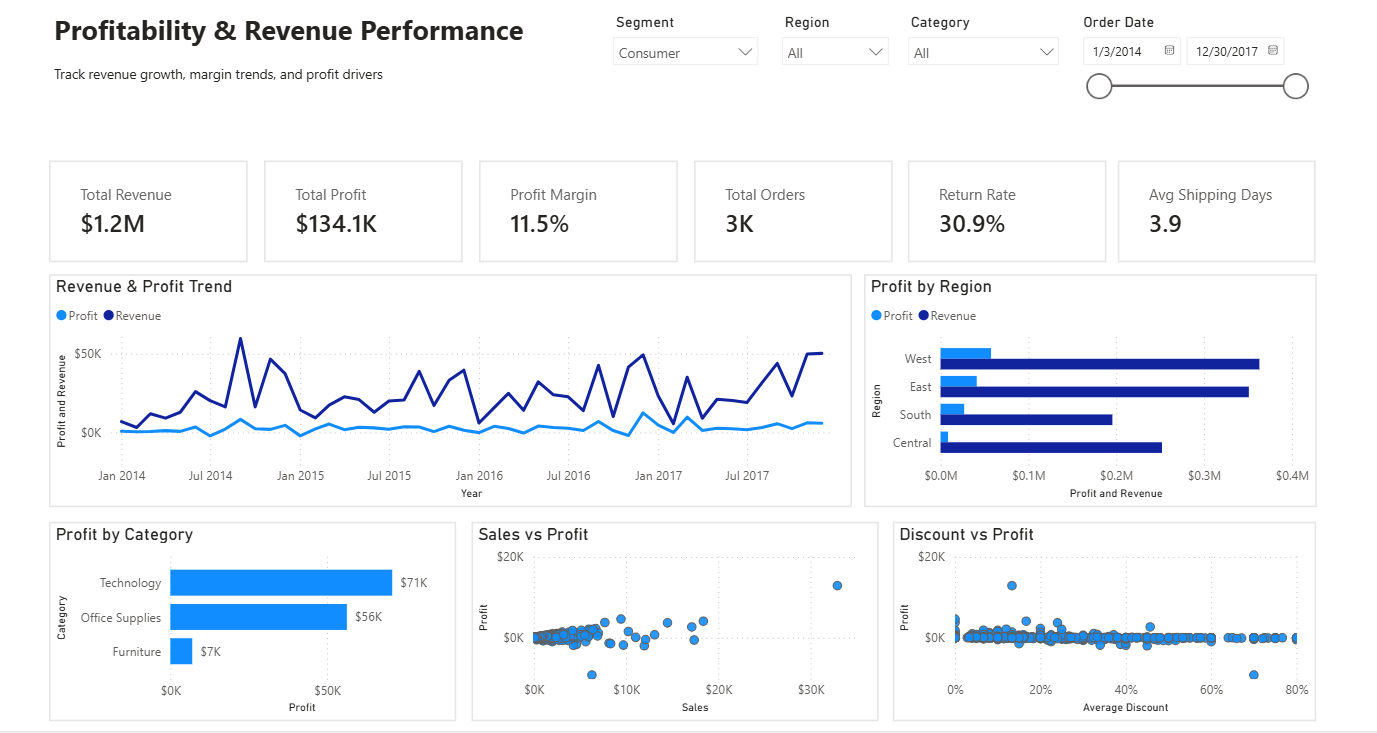

This screenshot's page, from the dashboard's own definition file:
{"tool":"powerbi","page":{"name":"Page 1","canvas":[1280,720],"ordinal":0},"visuals":[{"type":"cardVisual","fields":{"Data":["superstore_processed.Total Revenue"]},"box":[19.6,160.2,195,100.3],"z":0},{"type":"cardVisual","fields":{"Data":["superstore_processed.Total Profit"]},"box":[230.9,160.2,195,100.3],"z":1000},{"type":"cardVisual","fields":{"Data":["superstore_processed.Profit Margin"]},"box":[442.1,160.2,195,100.3],"z":2000},{"type":"cardVisual","fields":{"Data":["superstore_processed.Total Orders"]},"box":[652.9,160.2,195,100.3],"z":3000},{"type":"cardVisual","fields":{"Data":["superstore_processed.Return Rate"]},"box":[863.6,160.2,195,100.3],"z":4000},{"type":"lineChart","title":"Revenue & Profit Trend","fields":{"Category":["superstore_processed.Order Date.Variation.Date Hierarchy.Year","superstore_processed.Order Date.Variation.Date Hierarchy.Month"],"Y":["superstore_processed.Total Profit","superstore_processed.Total Revenue"]},"box":[20,271.2,788.8,228.8],"z":5000},{"type":"clusteredBarChart","title":"Profit by Category","fields":{"Category":["superstore_processed.Category"],"Y":["superstore_processed.Total Profit"]},"box":[20,515,400,196.2],"z":6000},{"type":"scatterChart","title":"Sales vs Profit","fields":{"X":["Sum(superstore_processed.Sales)"],"Y":["Sum(superstore_processed.Profit)"],"Category":["superstore_processed.Product Name"]},"box":[434.4,515,400,196],"z":7000},{"type":"scatterChart","title":"Discount vs Profit","fields":{"X":["Avg(superstore_processed.Discount)"],"Y":["Sum(superstore_processed.Profit)"],"Category":["superstore_processed.Product Name"]},"box":[848.8,515,416.2,196],"z":8000},{"type":"clusteredBarChart","title":"Profit by Region","fields":{"Category":["superstore_processed.Region"],"Y":["superstore_processed.Total Profit","superstore_processed.Total Revenue"]},"box":[820,271.2,445,228.8],"z":9000},{"type":"slicer","fields":{"Values":["superstore_processed.Region"]},"box":[728.8,10,125,85],"z":10000},{"type":"slicer","fields":{"Values":["superstore_processed.Segment"]},"box":[563.8,10,162.5,67.5],"z":11000},{"type":"slicer","fields":{"Values":["superstore_processed.Category"]},"box":[853.8,10,168.8,85],"z":12000},{"type":"slicer","fields":{"Values":["superstore_processed.Order Date"]},"box":[1022.5,10,242.5,150],"z":13000},{"type":"textbox","box":[20,7.5,543.8,115],"z":14000},{"type":"cardVisual","fields":{"Data":["superstore_processed.Avg Shipping Days"]},"box":[1070,160.2,194.4,100.3],"z":15000}]}

Visuals, with their boxes on the page's 1280x720 design canvas (x1, y1, x2, y2). These are canvas units, not pixel positions in the 1377x733 screenshot, which may show the page scaled, cropped or inside an application window:
cardVisual - superstore_processed.Total Revenue: 20, 160, 215, 260
cardVisual - superstore_processed.Total Profit: 231, 160, 426, 260
cardVisual - superstore_processed.Profit Margin: 442, 160, 637, 260
cardVisual - superstore_processed.Total Orders: 653, 160, 848, 260
cardVisual - superstore_processed.Return Rate: 864, 160, 1059, 260
"Revenue & Profit Trend" lineChart: 20, 271, 809, 500
"Profit by Category" clusteredBarChart: 20, 515, 420, 711
"Sales vs Profit" scatterChart: 434, 515, 834, 711
"Discount vs Profit" scatterChart: 849, 515, 1265, 711
"Profit by Region" clusteredBarChart: 820, 271, 1265, 500
slicer - superstore_processed.Region: 729, 10, 854, 95
slicer - superstore_processed.Segment: 564, 10, 726, 78
slicer - superstore_processed.Category: 854, 10, 1023, 95
slicer - superstore_processed.Order Date: 1022, 10, 1265, 160
textbox: 20, 8, 564, 122
cardVisual - superstore_processed.Avg Shipping Days: 1070, 160, 1264, 260
